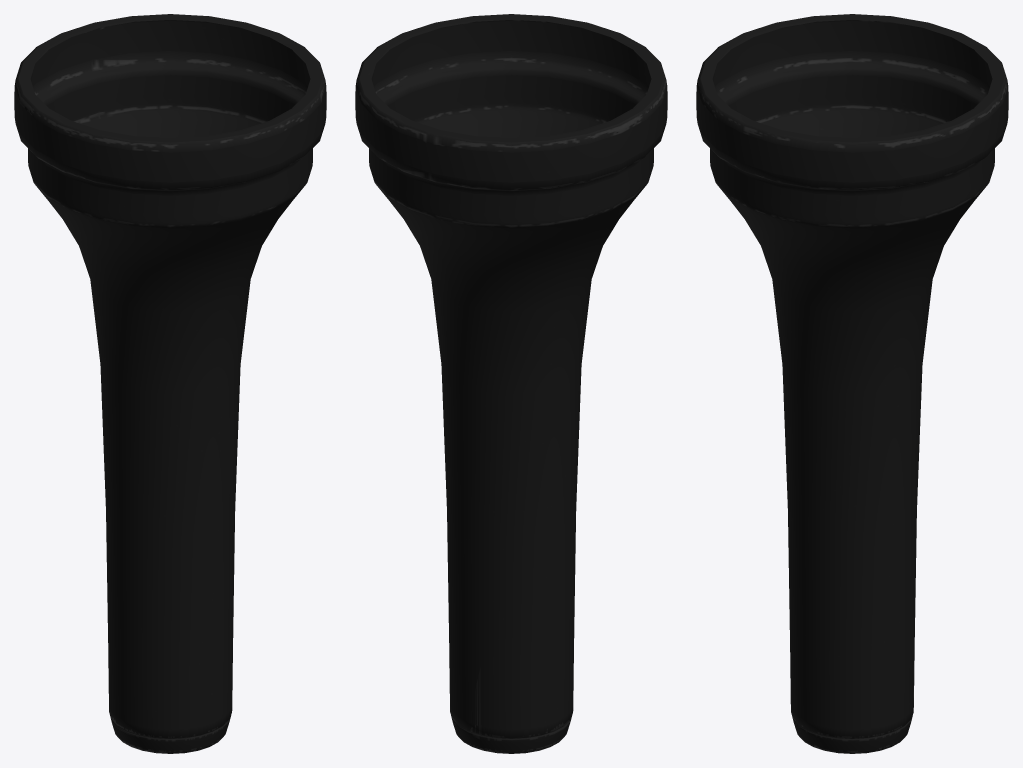
Rendered from KISSOFLIFE_02.glb.
3 renders of one model, left to right at view 1: azimuth 30°, elevation 25°; view 2: azimuth 150°, elevation 25°; view 3: azimuth 270°, elevation 25°, orthographic.
Visible parts, largest first — view 1: KISSOFLIFE_02; view 2: KISSOFLIFE_02; view 3: KISSOFLIFE_02.
Boxes of the visible parts, x1=… form: KISSOFLIFE_02: x1=14, y1=14, x2=326, y2=753; KISSOFLIFE_02: x1=355, y1=14, x2=667, y2=753; KISSOFLIFE_02: x1=696, y1=14, x2=1008, y2=753.
Bounding box in the file's own units: 0.1692 × 0.3905 × 0.1692.
Materials: 1 (1 with a texture image).
